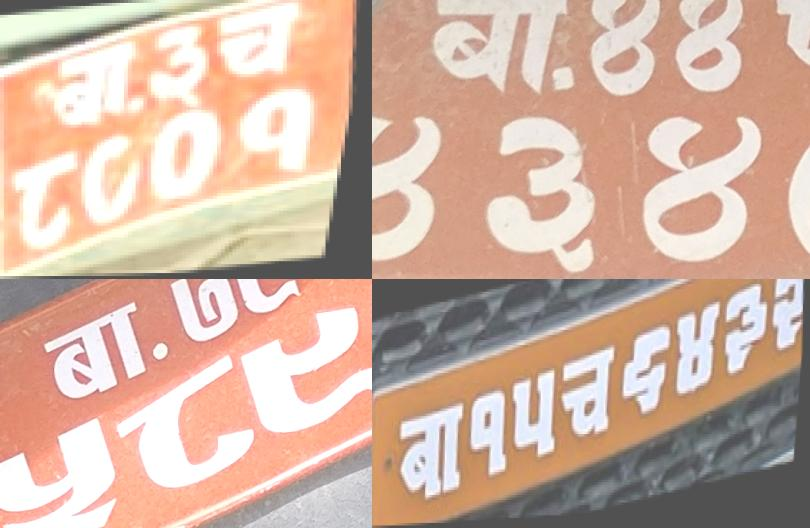0: (146, 108, 236, 196), (770, 95, 810, 279), (80, 137, 162, 222)
1: (231, 88, 329, 182), (465, 383, 519, 494)
2: (766, 279, 809, 368)
3: (466, 88, 635, 279), (137, 20, 232, 117), (721, 282, 776, 392)
4: (623, 96, 792, 279), (372, 88, 472, 279), (657, 0, 768, 107), (572, 0, 678, 106), (669, 304, 729, 408)
5: (0, 408, 145, 528), (507, 368, 566, 477)
6: (619, 323, 679, 432)
7: (159, 279, 253, 352)
8: (110, 350, 282, 500), (4, 149, 96, 251)
9: (231, 299, 372, 446), (223, 279, 313, 323)
ba: (414, 0, 590, 117), (29, 296, 173, 411), (386, 396, 476, 515), (49, 41, 139, 126)
cha: (206, 2, 307, 84), (556, 346, 625, 460)
pa: (751, 0, 810, 116)
